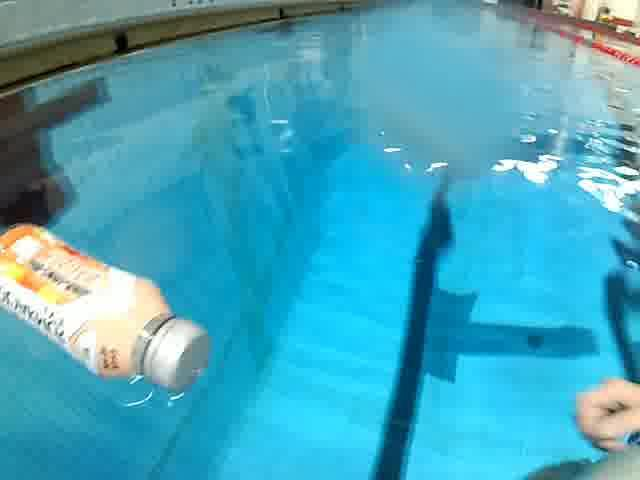Bottle: (0, 220, 214, 398)
